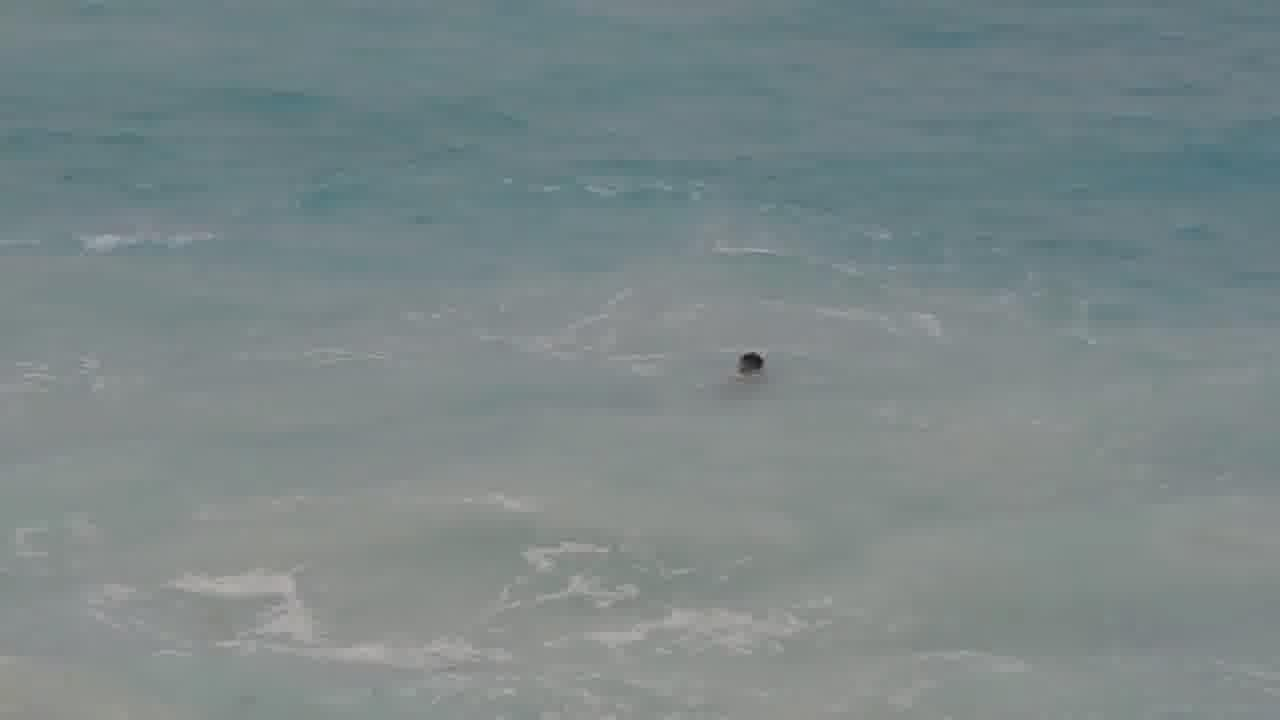swimmer: (725, 337, 772, 395)
